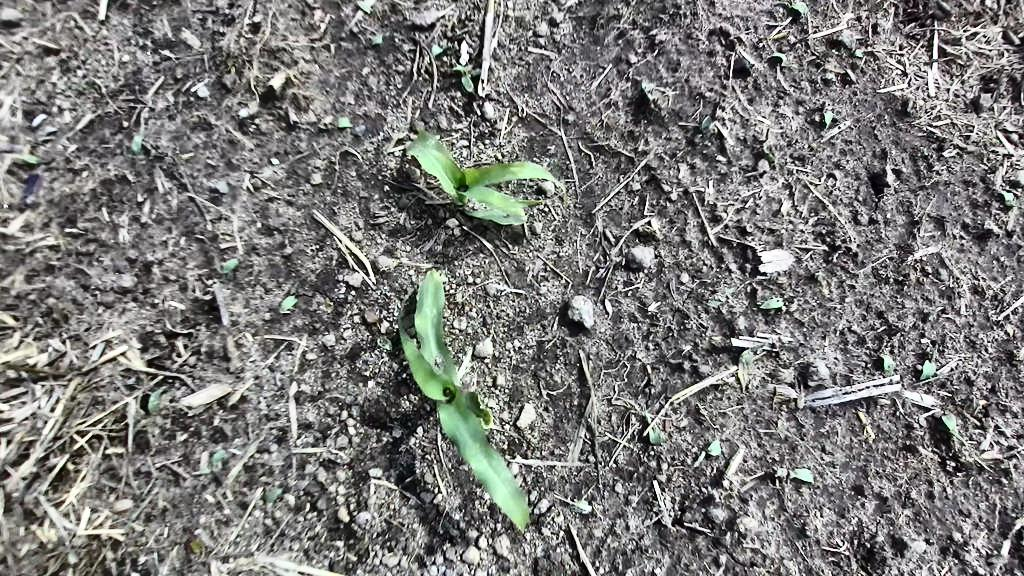BroWeed: (689, 435, 727, 473), (190, 446, 230, 481), (207, 242, 241, 277), (940, 408, 968, 450), (45, 320, 78, 355), (918, 341, 943, 385), (128, 105, 149, 156), (1, 148, 54, 168), (642, 405, 667, 447), (256, 481, 287, 513), (632, 70, 662, 102), (450, 56, 474, 94), (143, 380, 168, 416), (977, 440, 1007, 469), (768, 48, 800, 73), (364, 29, 394, 53), (774, 467, 815, 484), (755, 292, 786, 312), (696, 114, 720, 139), (997, 185, 1019, 212), (315, 295, 338, 320), (568, 494, 591, 518), (278, 290, 299, 316), (158, 387, 183, 408), (878, 351, 897, 378), (429, 36, 452, 57), (333, 111, 354, 130), (187, 534, 206, 554), (375, 334, 396, 352), (757, 147, 777, 164), (636, 222, 655, 239), (822, 107, 834, 131), (318, 115, 335, 131), (509, 460, 523, 476), (9, 156, 31, 166), (810, 109, 825, 123), (184, 543, 197, 559), (225, 56, 237, 73), (706, 298, 722, 310), (469, 66, 483, 78), (933, 409, 946, 421), (515, 473, 525, 488), (708, 293, 727, 300), (254, 499, 265, 510), (852, 48, 865, 57)
Maize: (378, 266, 542, 551), (390, 118, 579, 245)
